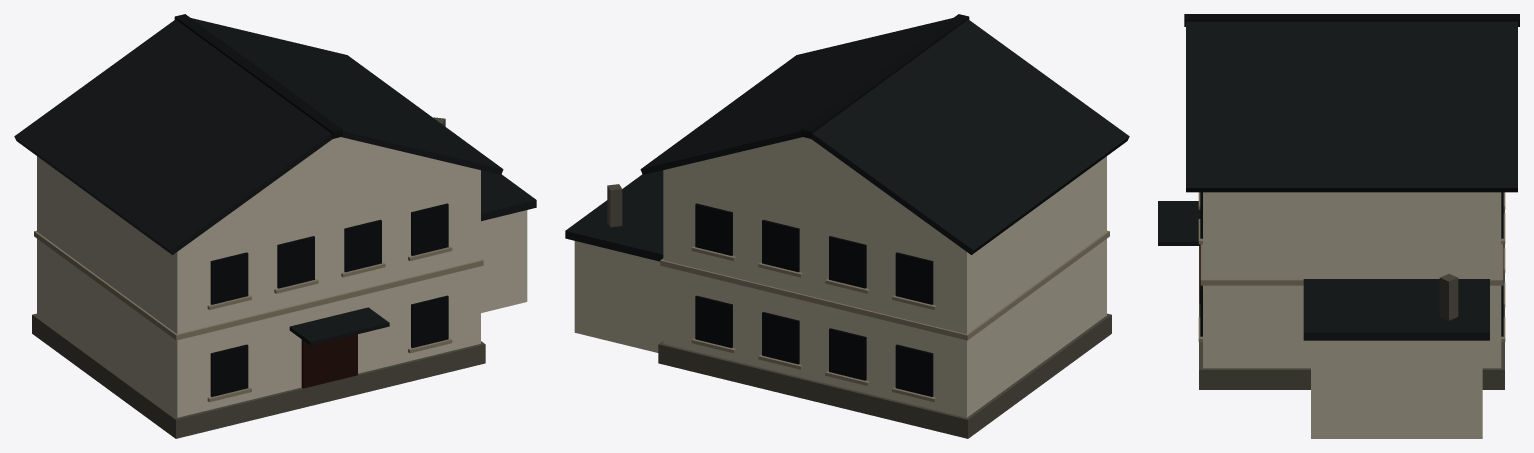
File: house_rural.fbx
3 renders of one model, left to right at view 1: azimuth 30°, elevation 25°; view 2: azimuth 150°, elevation 25°; view 3: azimuth 270°, elevation 25°, orthographic. The views are drawn at different scales.
Parts seen in each view (by area): view 1: house_rural; view 2: house_rural; view 3: house_rural.
Boxes of the visible parts, <box> form: house_rural: <box>14,14,536,438</box>; house_rural: <box>565,14,1129,438</box>; house_rural: <box>1158,14,1519,438</box>.
Bounding box in the file's own units: 13.89 × 8.67 × 9.7.
